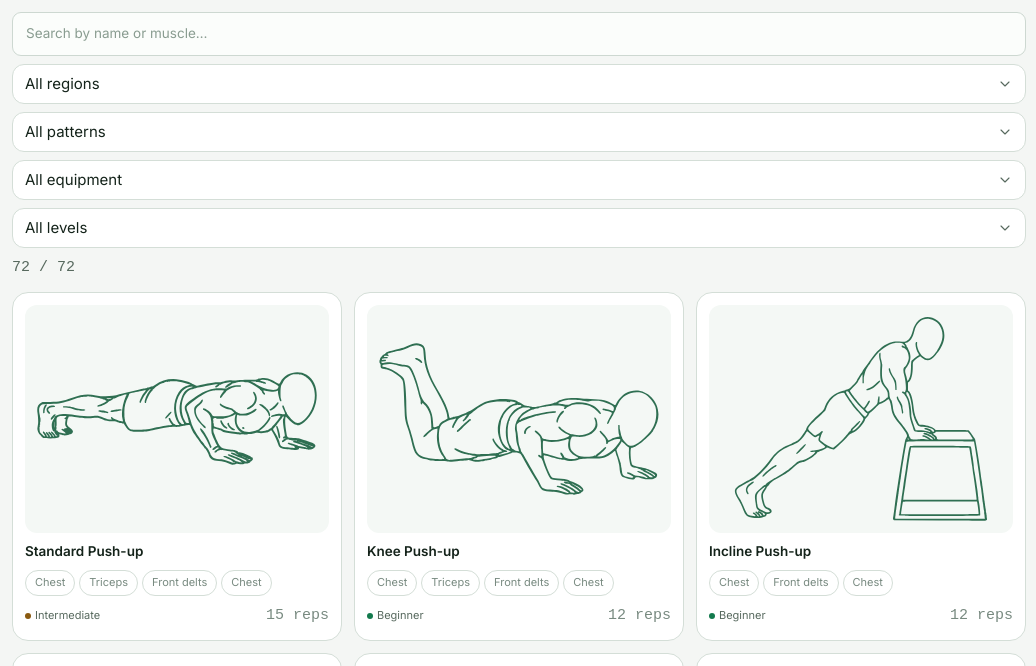
Test: ExerciseCatalog › filters by query and clears back to the full catalog
The width and height of the screenshot is (1036, 666).
Type "squat" into the search field named "Search the library" at (519,34), box [12, 12, 1026, 56]
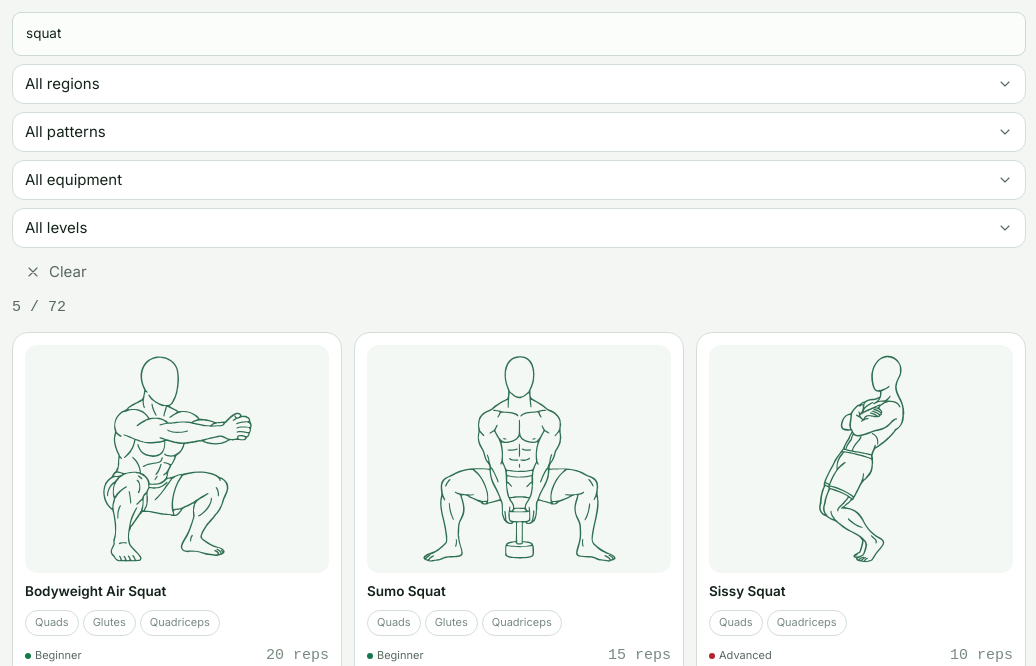
Click the button "Clear" at (56,272), box [12, 256, 100, 288]
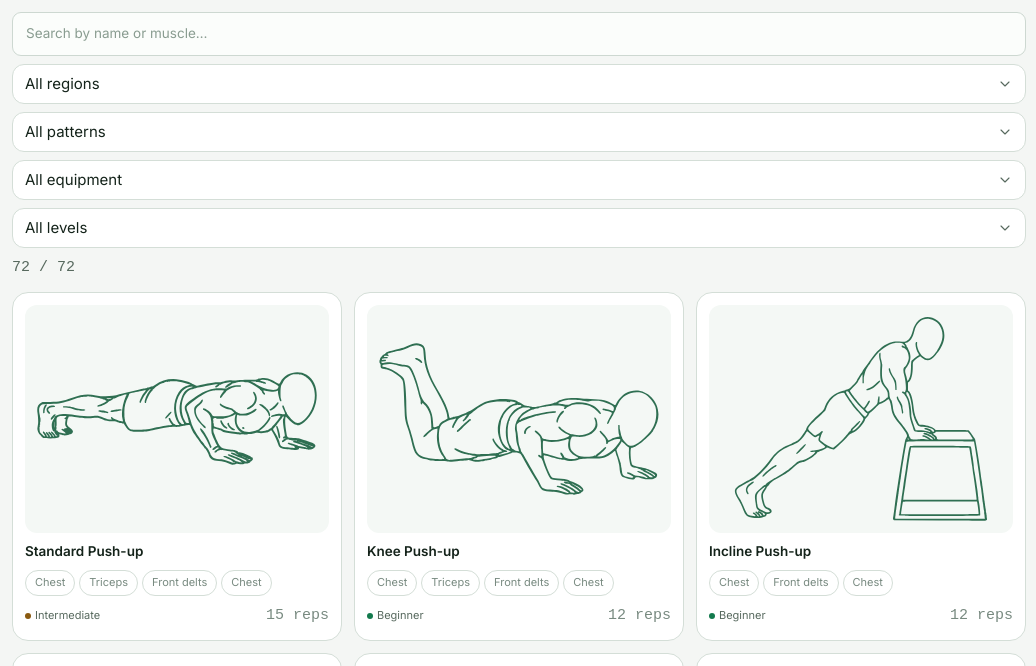
expect the number of elements with class "ex-card" is 72: met
